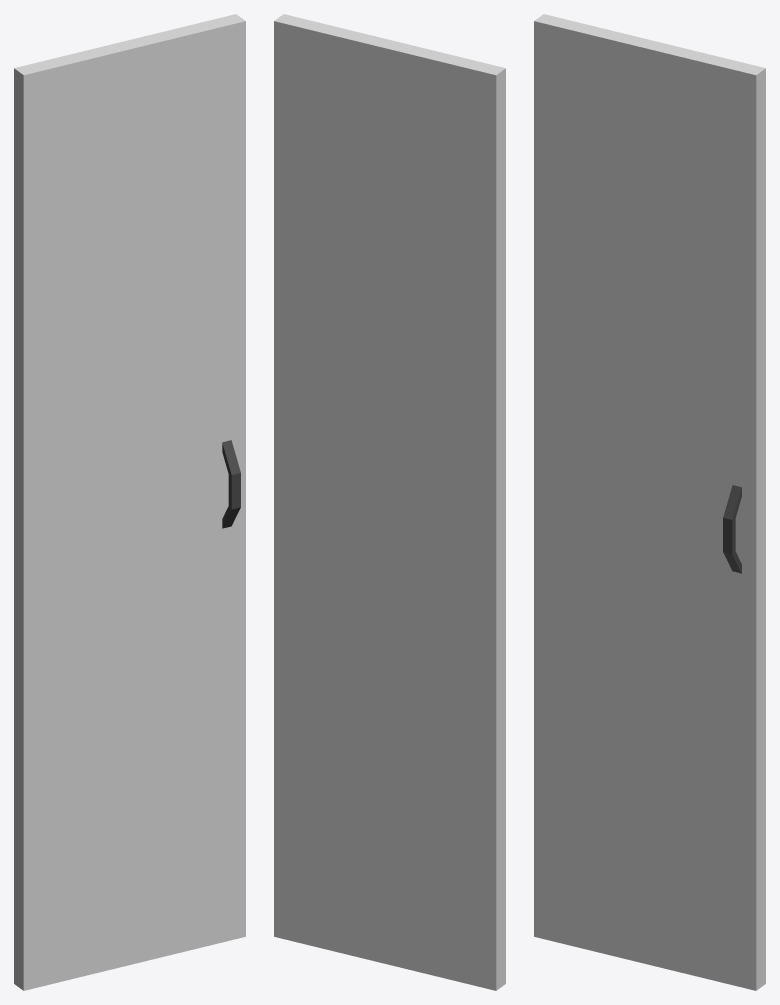
Rendered from Armaario01_Puerta.fbx.
3 renders of one model, left to right at view 1: azimuth 30°, elevation 25°; view 2: azimuth 150°, elevation 25°; view 3: azimuth 330°, elevation 25°, orthographic.
Visible parts, largest first — view 1: Armaario01_Puerta; view 2: Armaario01_Puerta; view 3: Armaario01_Puerta.
Boxes of the visible parts, <box> form: Armaario01_Puerta: <box>14,14,245,990</box>; Armaario01_Puerta: <box>274,14,505,990</box>; Armaario01_Puerta: <box>534,14,765,990</box>.
Size of the model in its own units: 68.03 by 268 by 10.15.
